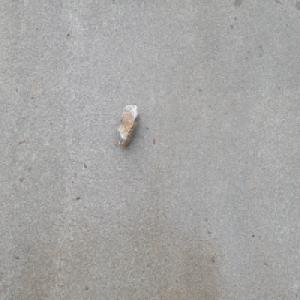Rock: (117, 104, 140, 149)
